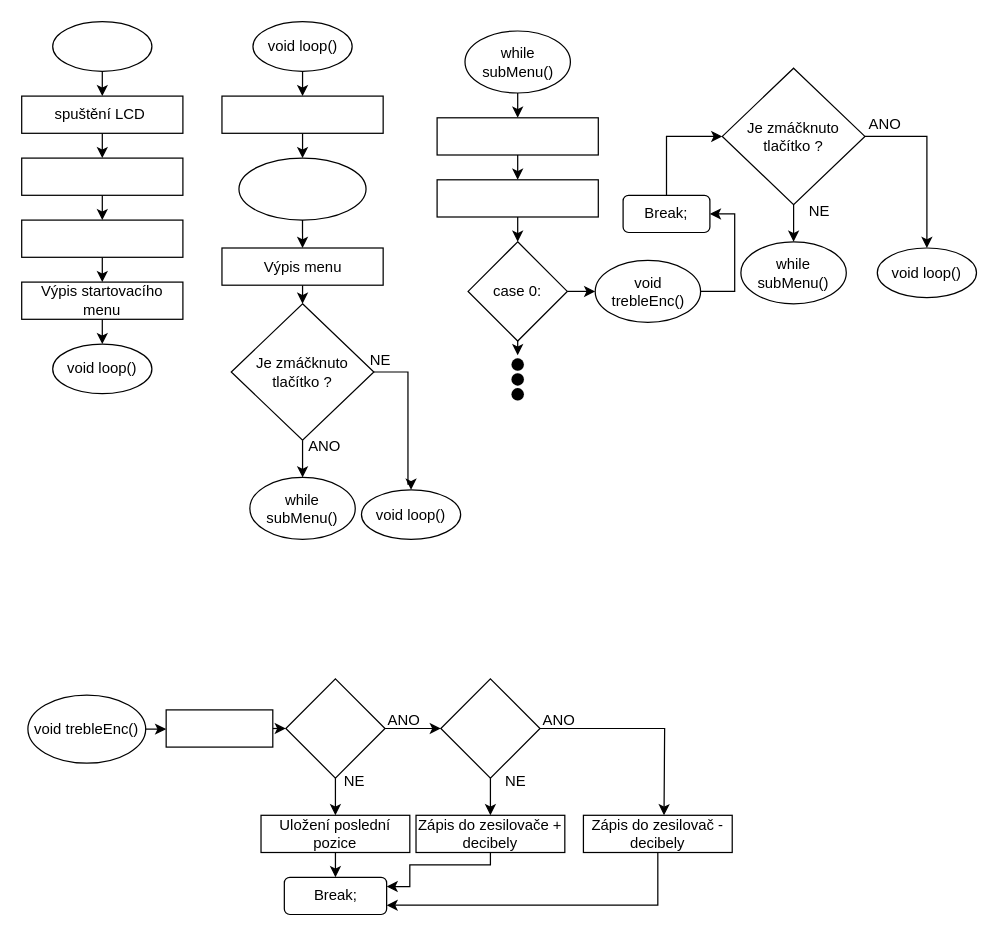
Some shapes in this 998 by 937 pixel diagram are drawn without their labels. The centre of each missing label's shape, as x and y in pixels:
"Deklarace pinů" belongs at (x=101, y=238).
"Hnul se doleva ?" belongs at (x=490, y=728).
"Hnul se enkoder ?" belongs at (x=335, y=728).
"Inicializace IR přijímače" belongs at (x=517, y=136).
"Nastavení startovacích hodnot zesilovače" belongs at (x=101, y=176).
"Start" belongs at (x=101, y=45).
"Start IR příjmače" belongs at (x=302, y=114).
"Switch( Výběr menu)" belongs at (x=517, y=198).
"void handleEncoder()" belongs at (x=302, y=188).
"Výpis hodnot na LCD" belongs at (x=219, y=728).
